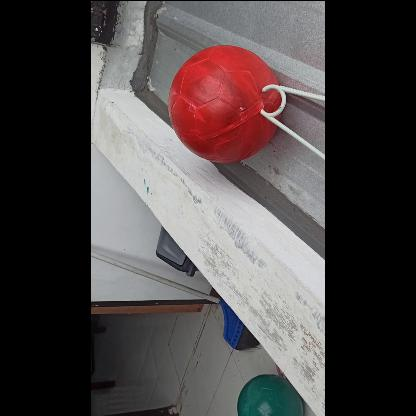red_ball: (166, 44, 282, 160)
